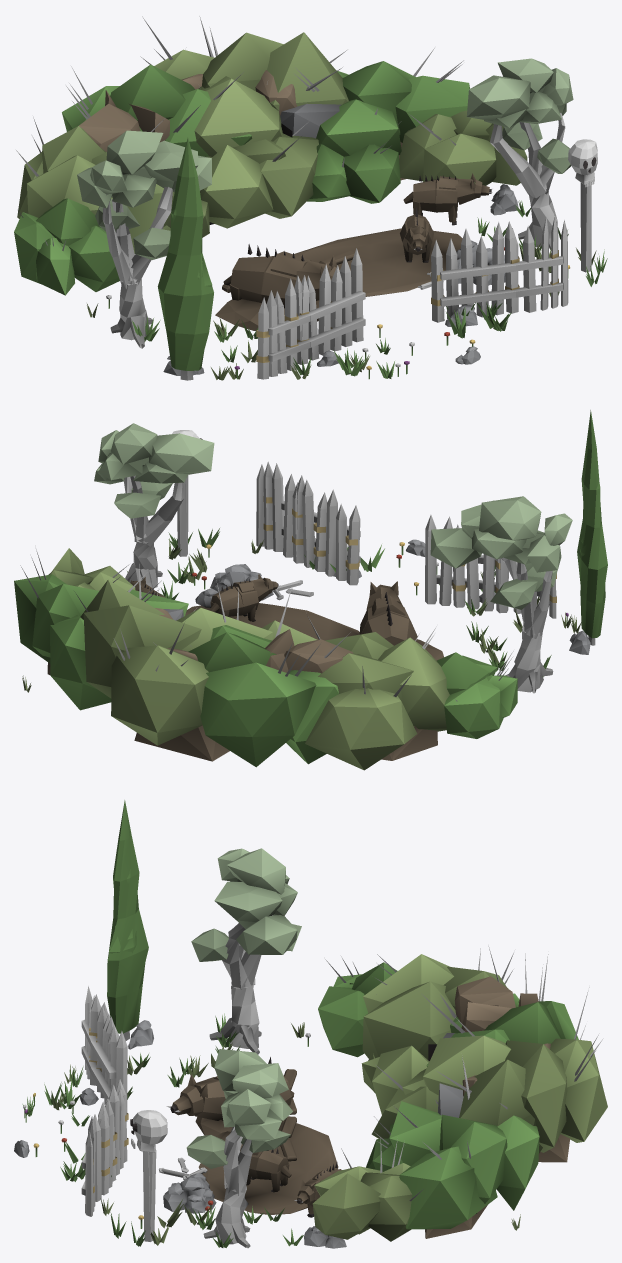
Rendered from boar-den-l2.glb.
3 renders of one model, top to bottom at view 1: azimuth 30°, elevation 25°; view 2: azimuth 150°, elevation 25°; view 3: azimuth 270°, elevation 25°, orthographic. The views are drawn at different scales.
Visible parts, largest first — view 1: boar-den-l2; view 2: boar-den-l2; view 3: boar-den-l2.
Boxes of the visible parts, box(x1,y1,x2,y2) form: boar-den-l2: box(14, 16, 607, 380); boar-den-l2: box(14, 410, 607, 770); boar-den-l2: box(14, 800, 607, 1248).
Size of the model in its own units: 1.56 by 0.8161 by 1.68.
